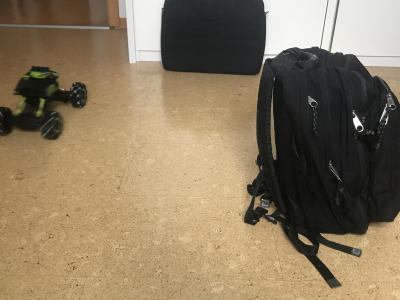remote control car: (1, 58, 93, 142)
